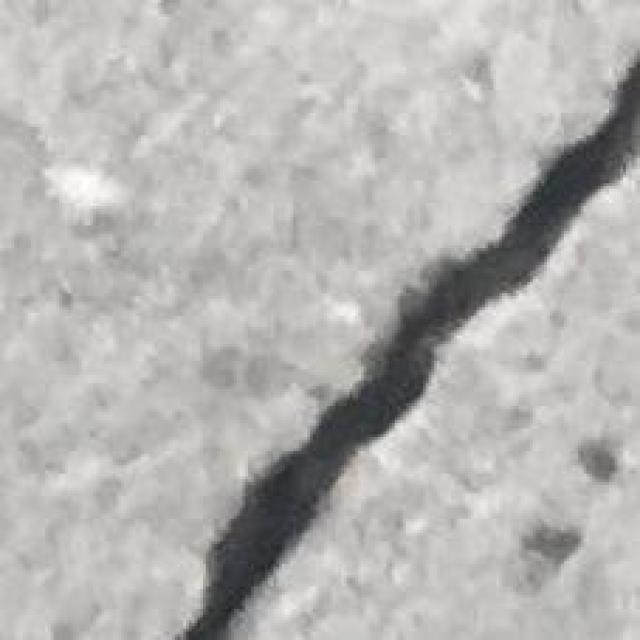Crack: (166, 59, 640, 640)
